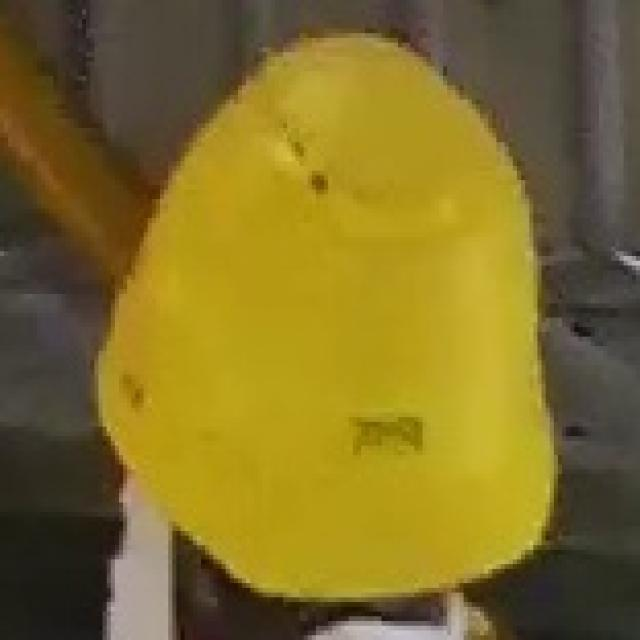yellow helmet: (94, 31, 559, 593)
